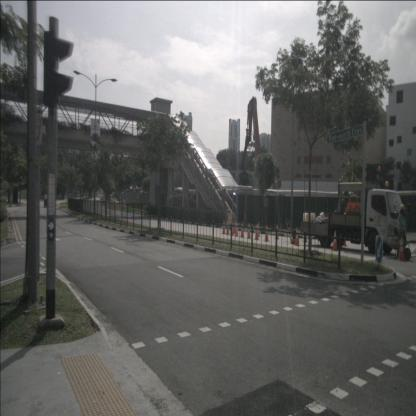movable_object-trafficcone: (396, 236, 406, 261), (332, 230, 338, 252), (263, 225, 270, 241), (294, 226, 299, 247), (274, 223, 280, 240), (254, 224, 259, 240), (247, 223, 251, 239), (222, 219, 226, 234), (230, 221, 234, 236), (241, 222, 245, 237), (226, 221, 230, 235), (235, 222, 238, 237), (258, 222, 260, 237)
vehicle-car: (44, 193, 52, 208)
vehicle-truck: (300, 182, 406, 255)
